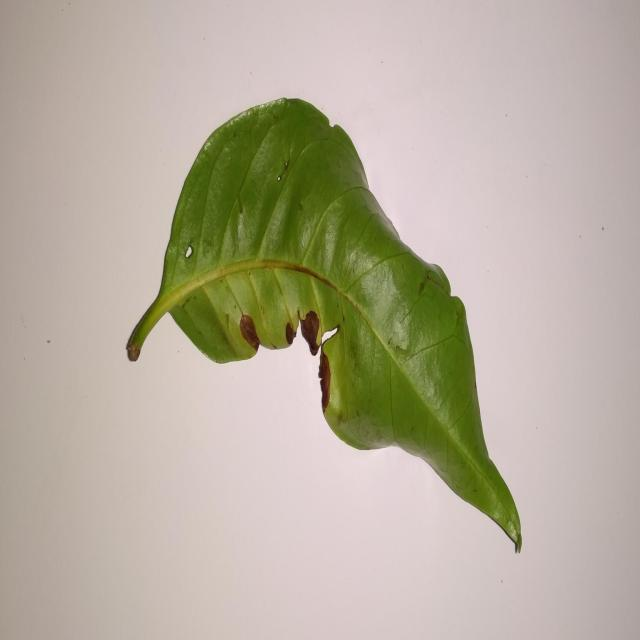Enfermedad-Antracnosis: (125, 98, 524, 554)
